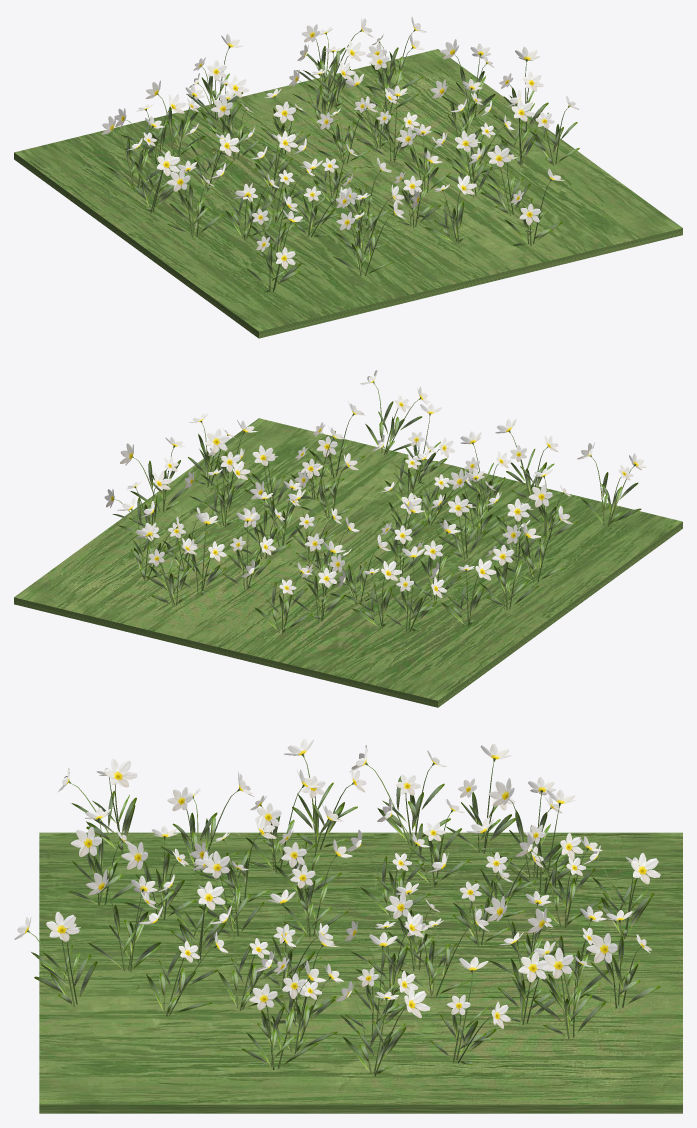
The model's file is daffodils.glb.
The picture shows the model from 3 angles, top to bottom: view 1: azimuth 30°, elevation 25°; view 2: azimuth 150°, elevation 25°; view 3: azimuth 270°, elevation 25°; orthographic projection. The views are drawn at different scales.
Visible parts, largest first — view 1: Object_4, Object_7, Object_6, Object_8; view 2: Object_4, Object_7, Object_6, Object_8; view 3: Object_4, Object_7, Object_6, Object_8.
Part boxes in pixels (<box>): Object_4: <box>14,49,682,338</box>; Object_7: <box>106,46,579,292</box>; Object_6: <box>101,16,579,268</box>; Object_8: <box>113,29,569,291</box>; Object_4: <box>14,418,682,707</box>; Object_7: <box>112,401,641,632</box>; Object_6: <box>104,369,646,598</box>; Object_8: <box>114,381,635,634</box>; Object_4: <box>39,832,682,1113</box>; Object_7: <box>31,776,660,1074</box>; Object_6: <box>14,738,660,1028</box>; Object_8: <box>27,753,642,1076</box>.
Bounding box in the file's own units: 8.72 × 1.83 × 9.07.
Materials: 4 (4 with a texture image).
